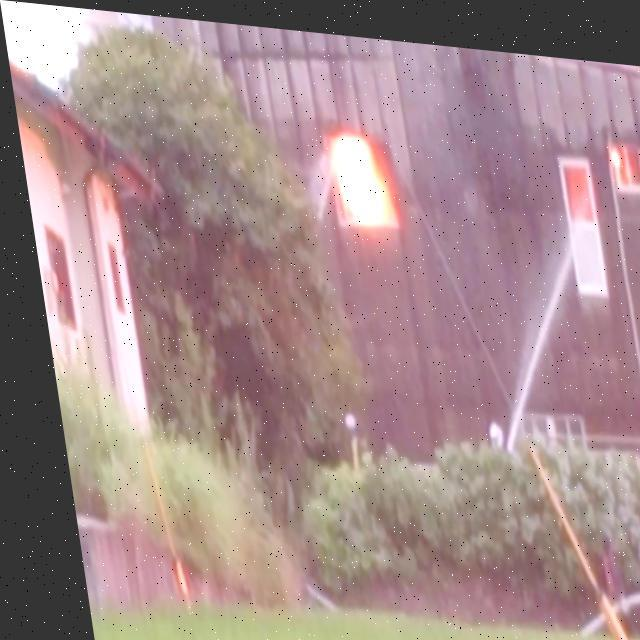Fire: (316, 115, 394, 218)
